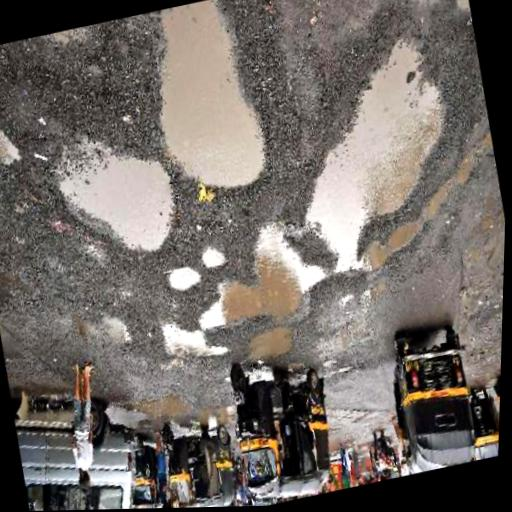pothole: (274, 31, 484, 298), (139, 0, 281, 208), (47, 123, 188, 275), (178, 214, 339, 344), (157, 311, 233, 374), (242, 322, 300, 368), (164, 264, 205, 300), (0, 121, 25, 176), (200, 246, 231, 274)
